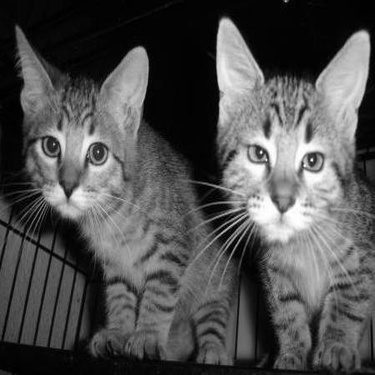cat: (10, 35, 210, 348), (199, 21, 370, 364)
